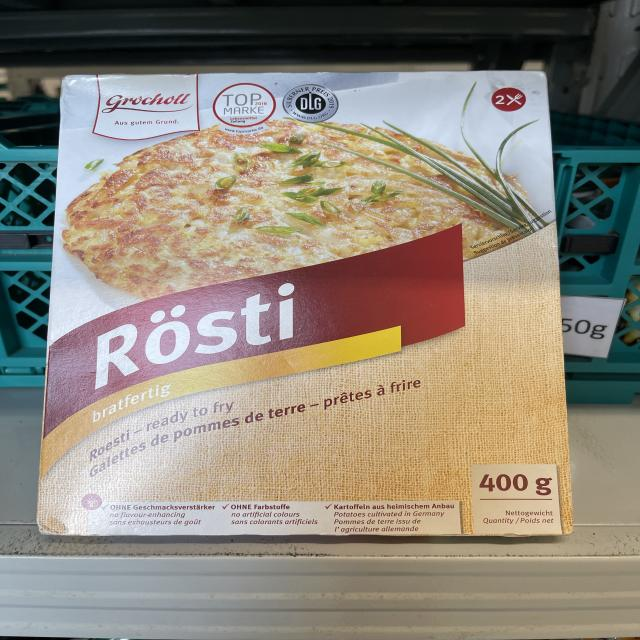object_name: (64, 75, 557, 537)
